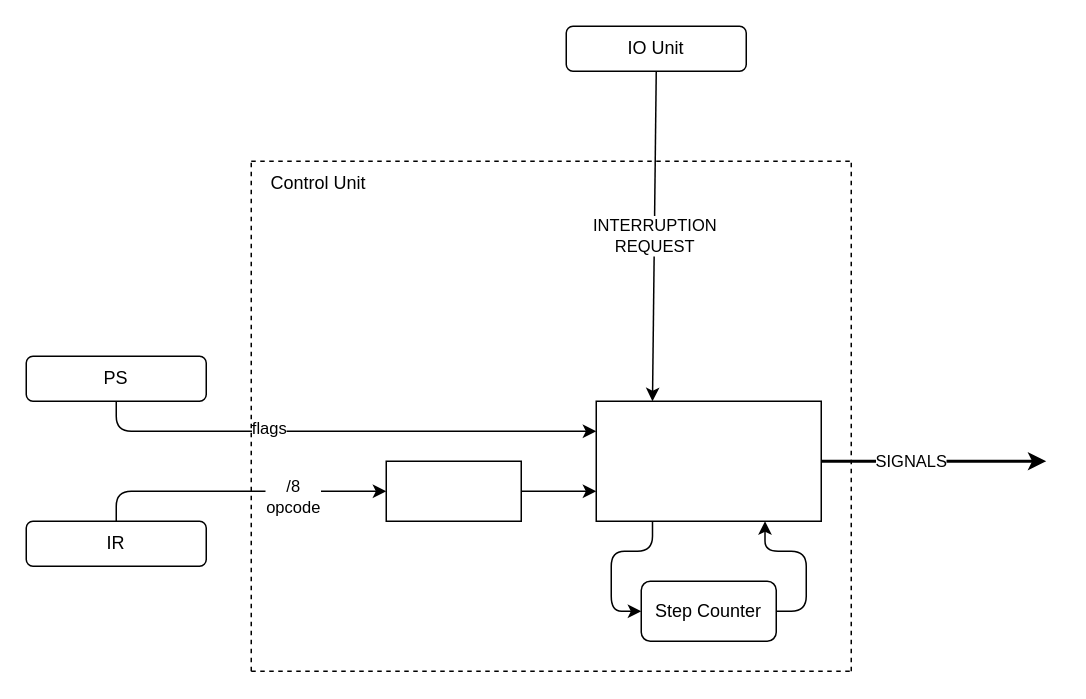
The diagram is 1086 pixels wide and 699 high, and some of its shapes have lost their labels. The centre of each missing label's shape, as x and y in pixels:
"Control HW Matrix" belongs at (708,460).
"Decoder" belongs at (453,490).
